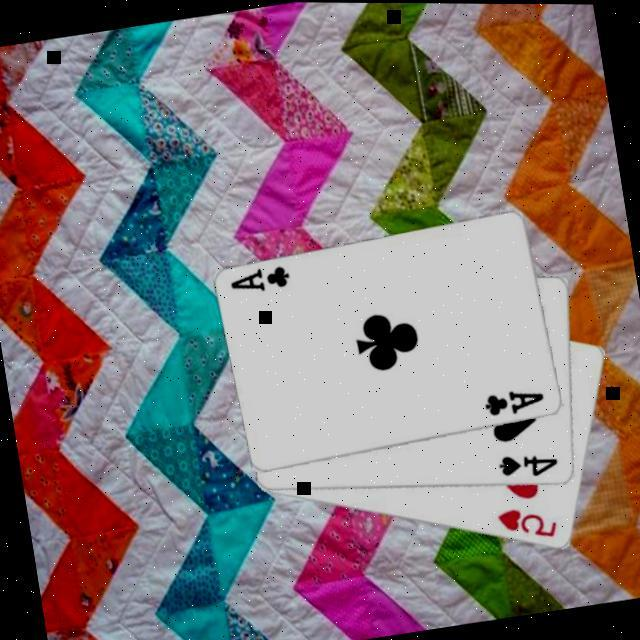4S: (493, 444, 562, 484)
5H: (491, 497, 560, 547)
AC: (224, 260, 294, 298), (479, 382, 547, 420)
